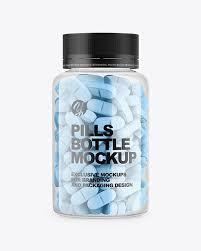jar: (52, 34, 148, 216)
